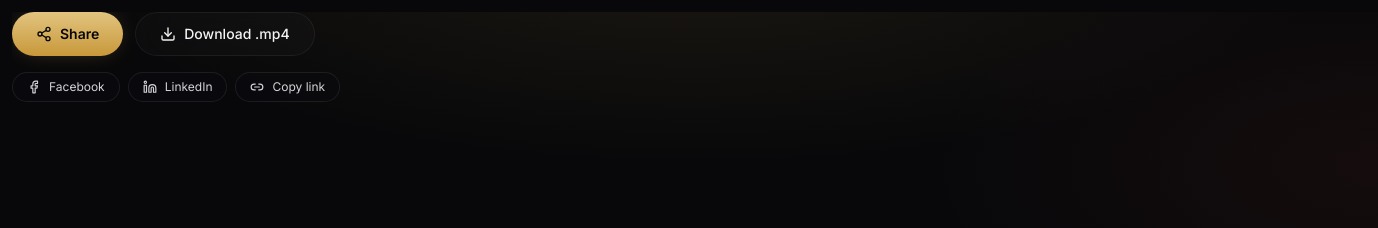
Test case: <ShareBar /> — Share › fetches the playback file and reports a successful native share
This screenshot has width=1378, height=228.
Click the button "Share". click: (68, 34)
box: [12,12,123,56]
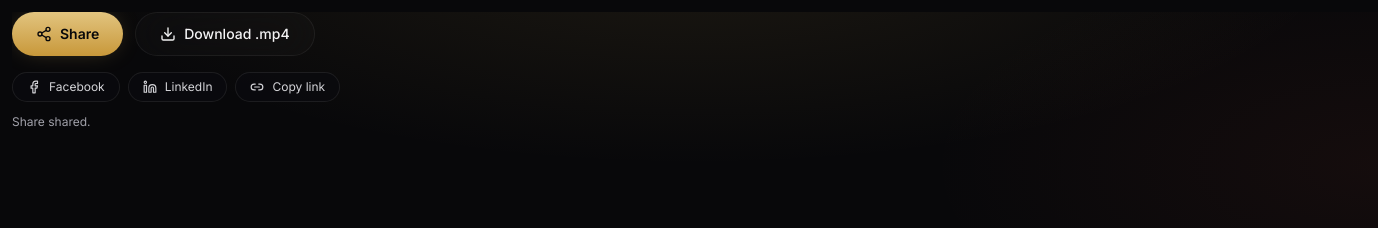
Check: the text "Share shared." is shown, box [12,114,90,129]
